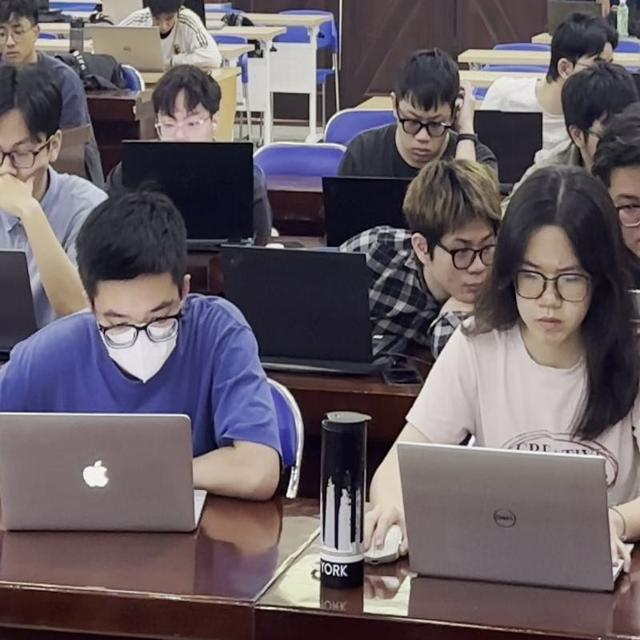Looking away: (76, 198, 206, 386), (504, 166, 601, 352), (400, 153, 502, 322), (388, 43, 474, 167), (0, 58, 61, 220), (596, 115, 640, 261), (154, 63, 226, 152), (132, 0, 199, 40), (0, 0, 42, 56)
